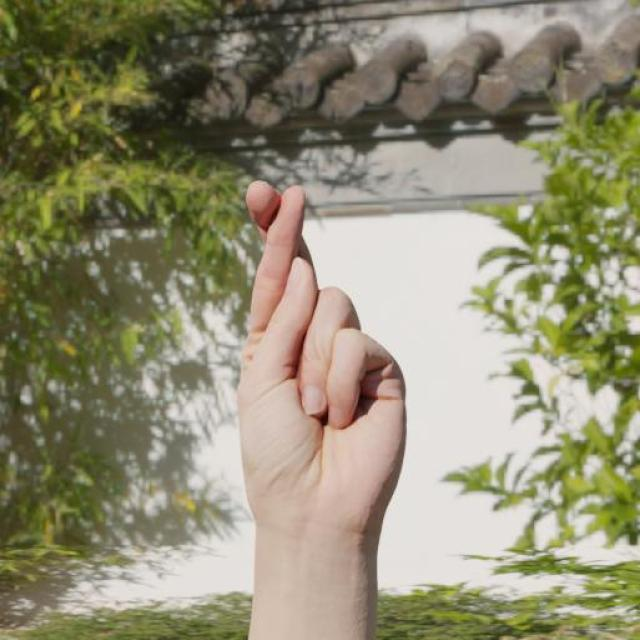R: (229, 172, 413, 576)
